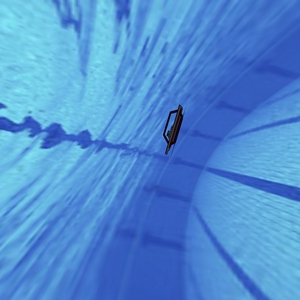submarine: (149, 94, 193, 160)
